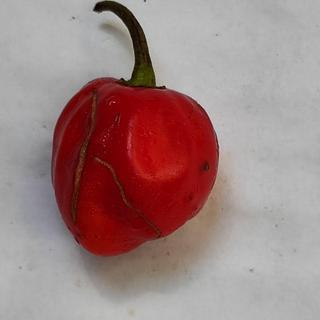Defect: (199, 155, 216, 178)
striped: (91, 153, 166, 243), (64, 87, 101, 227)
